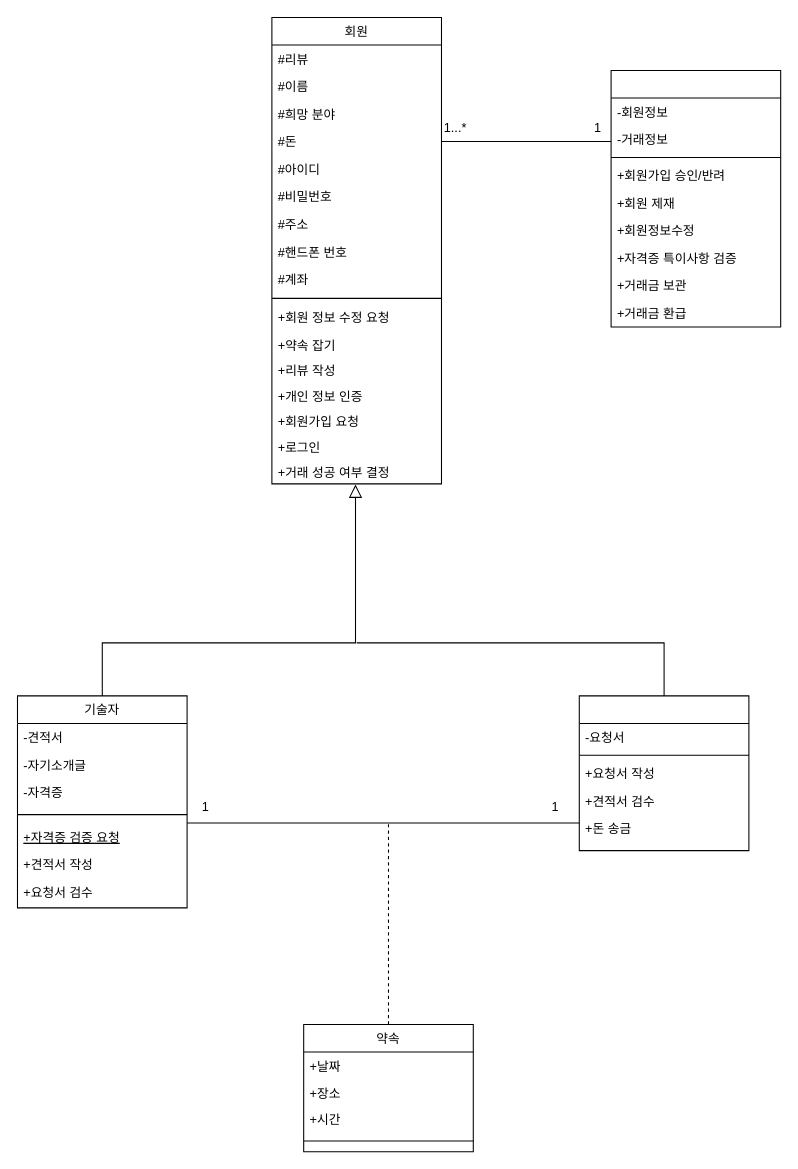
Some shapes in this 798 by 1169 pixel diagram are drawn without their labels. The box of each missing label's shape, as (x1, y1, x2, y2) in pixels:
고객: (578, 695, 749, 851)
시스템 관리자: (610, 69, 781, 327)
